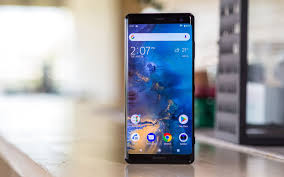sony: (119, 12, 198, 167)
